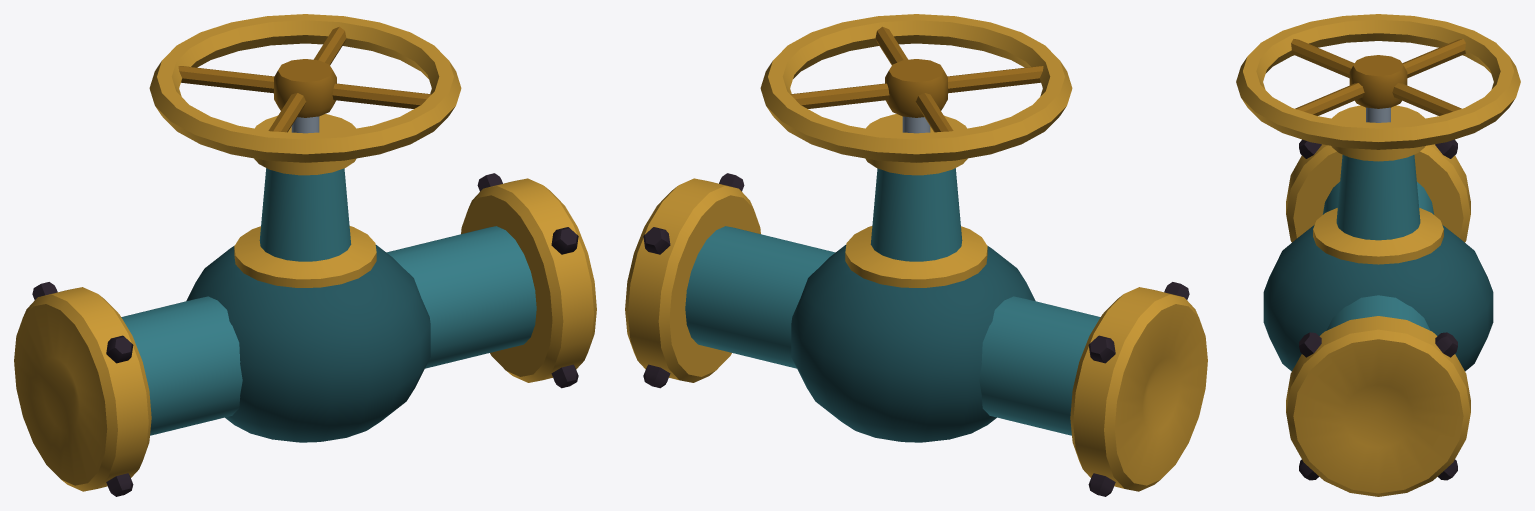
Rendered from Valve_05.glb.
3 views of the same model, side by side, from view 1: azimuth 30°, elevation 25°; view 2: azimuth 150°, elevation 25°; view 3: azimuth 270°, elevation 25° (orthographic). The views are drawn at different scales.
Visible parts, largest first — view 1: Valve_05; view 2: Valve_05; view 3: Valve_05.
Boxes of the visible parts, x1,y1,x2,y2 form: Valve_05: [14, 14, 596, 496]; Valve_05: [625, 14, 1207, 496]; Valve_05: [1236, 14, 1520, 496].
Bounding box in the file's own units: 2.86 × 2.01 × 1.58.
